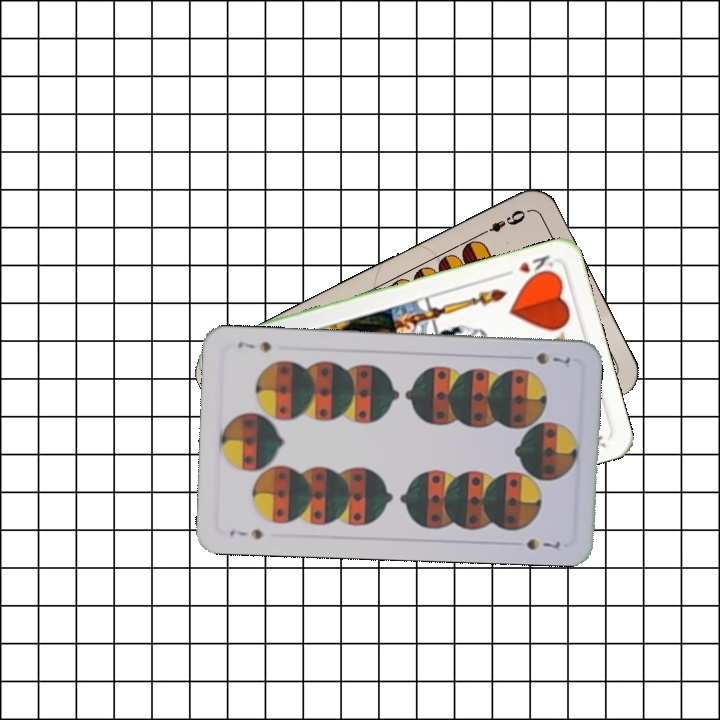E9: (475, 205, 529, 239)
HK: (499, 251, 556, 280)
S7: (532, 348, 573, 367), (226, 524, 265, 542)
